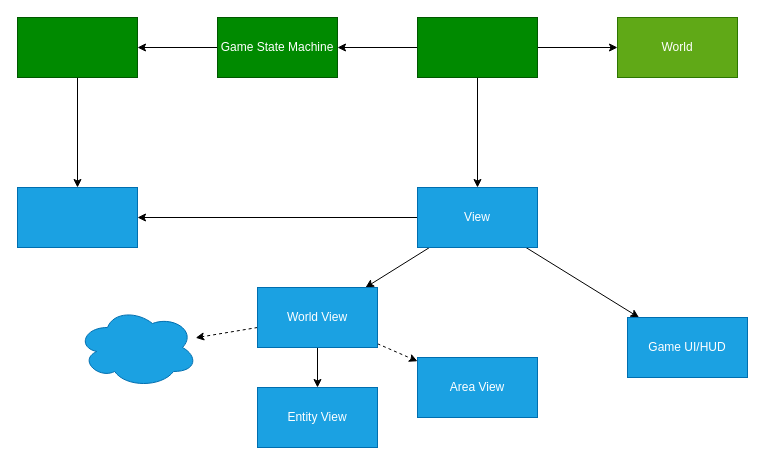
The diagram is 765 pixels wide and 465 high, and some of its shapes have lost their labels. The box of each missing label's shape, as (x1, y1, x2, y2) in pixels:
Director: (416, 16, 538, 78)
Fog Of War: (76, 306, 198, 388)
Game State: (16, 16, 138, 78)
Screen: (16, 186, 138, 248)
